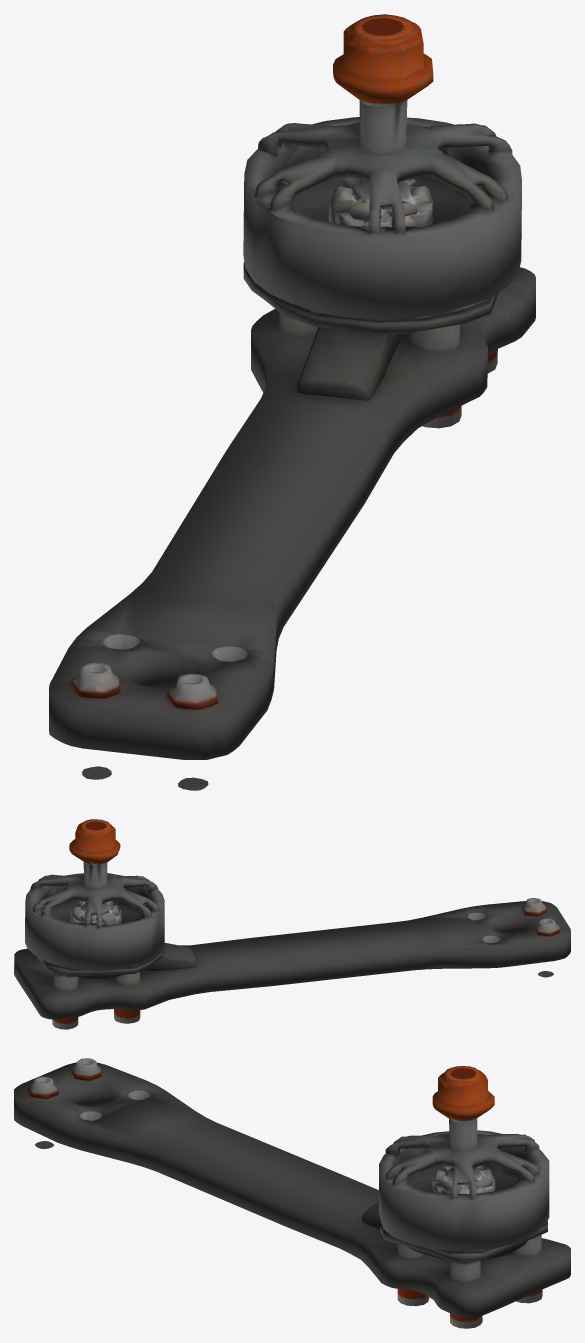
File: drone-motor-arm.glb
3 renders of one model, top to bottom at view 1: azimuth 30°, elevation 25°; view 2: azimuth 150°, elevation 25°; view 3: azimuth 270°, elevation 25°, orthographic. The views are drawn at different scales.
Parts seen in each view (by area): view 1: Motor arm; view 2: Motor arm; view 3: Motor arm.
Part boxes in pixels (x1,y1,x2,y2): Motor arm: [49, 14, 535, 790]; Motor arm: [14, 819, 570, 1029]; Motor arm: [14, 1058, 570, 1328].
Size of the model in its own units: 0.998 by 0.4551 by 0.998.
1 material, 1 textured.
